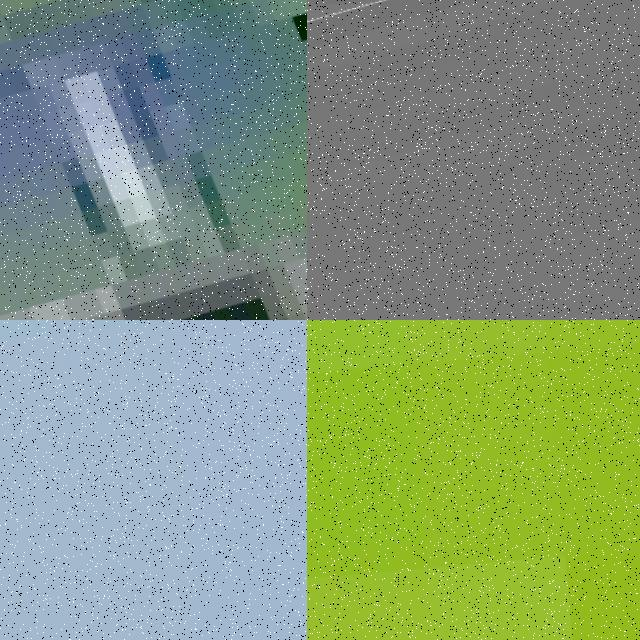drone: (307, 0, 640, 320), (0, 0, 307, 320)
